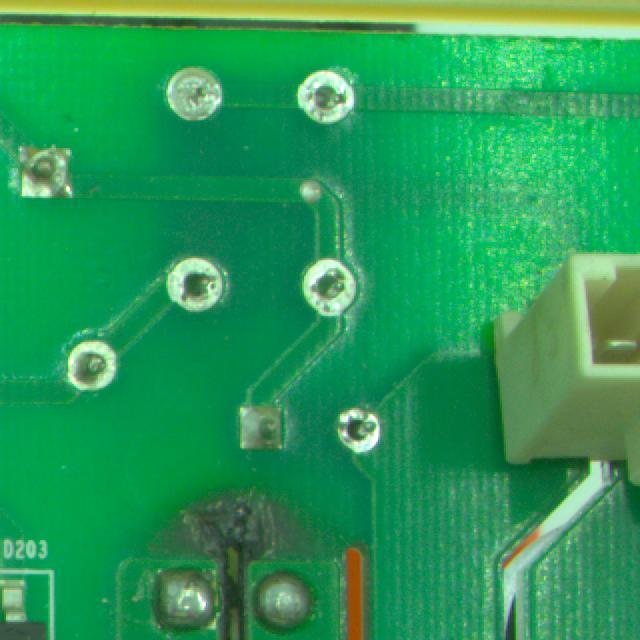Insufficient solder: (292, 66, 357, 138), (163, 252, 226, 318), (159, 68, 228, 128), (299, 249, 357, 318), (59, 339, 127, 396), (333, 403, 388, 454)
